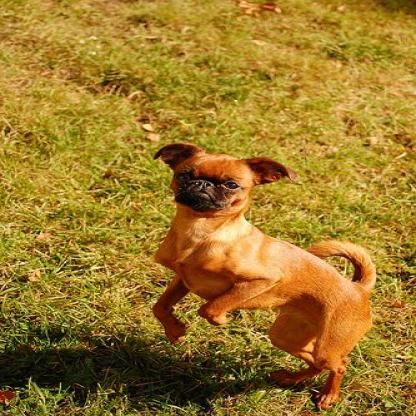Brabancon_griffon: (145, 143, 375, 408)
